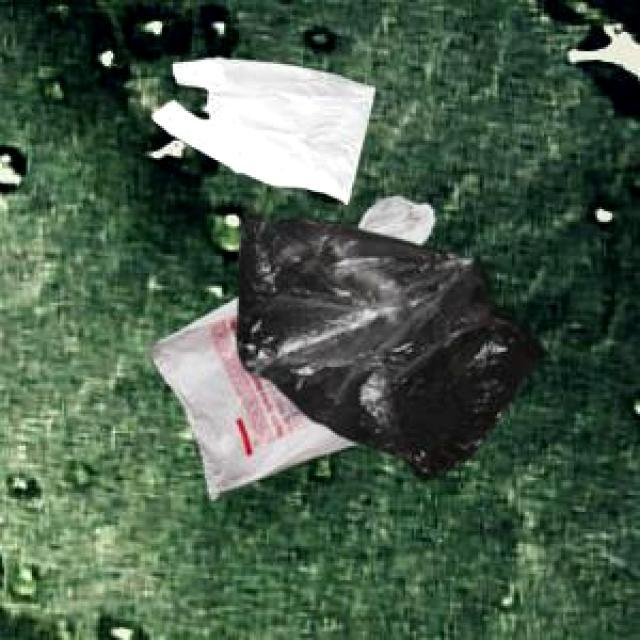Plastic_Bag: (148, 193, 432, 496), (234, 206, 540, 477), (150, 55, 372, 202)
